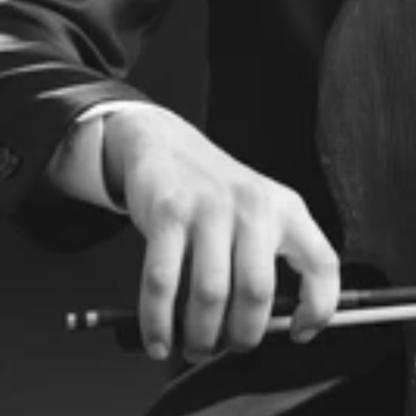good: (103, 142, 346, 367)
